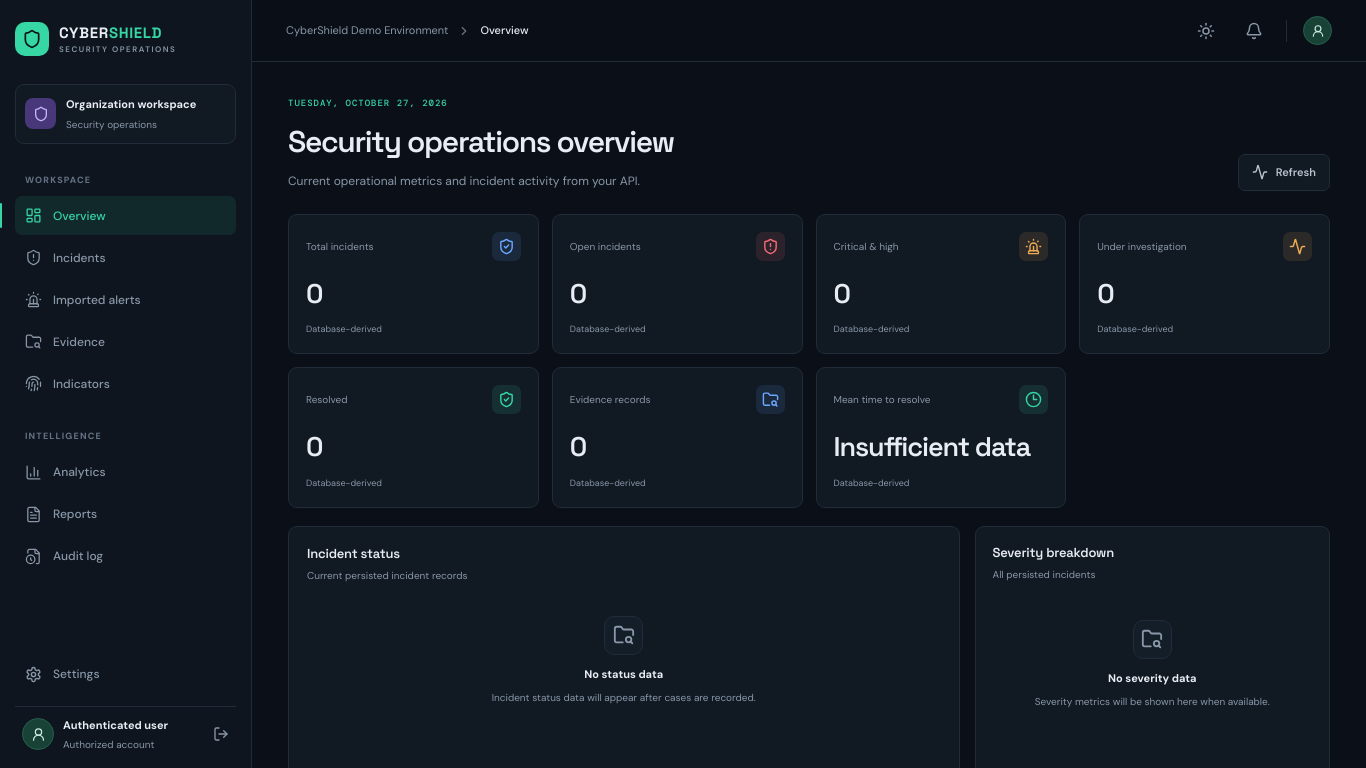
Test: CyberShield application › renders the paginated incidents response and requests the next page
Click the link "Incidents": point(65, 258) [25,249,106,266]
(page scrolled)
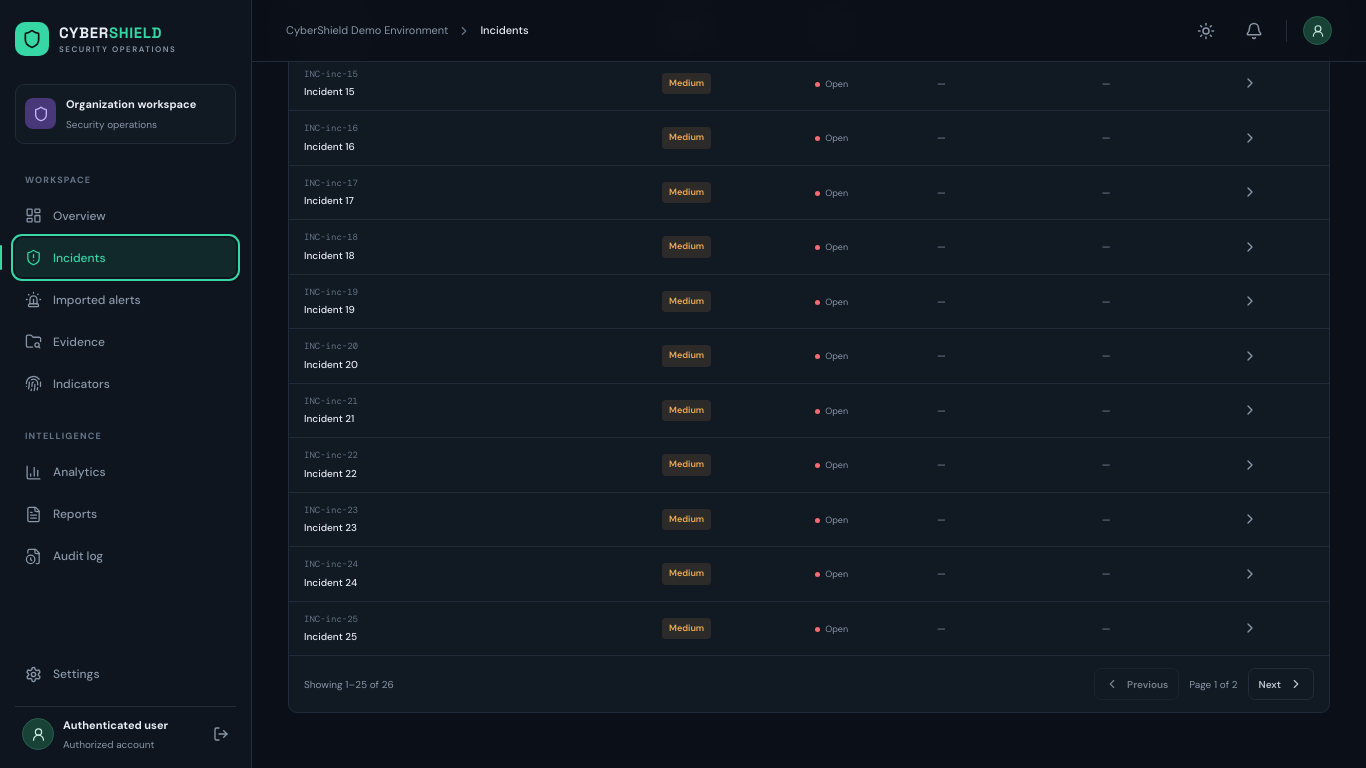
Result: the text "Page 1 of 2" is shown at [1189,677,1238,692]
Click the button "Next": point(1281, 684) [1248,668,1314,700]
(page scrolled)
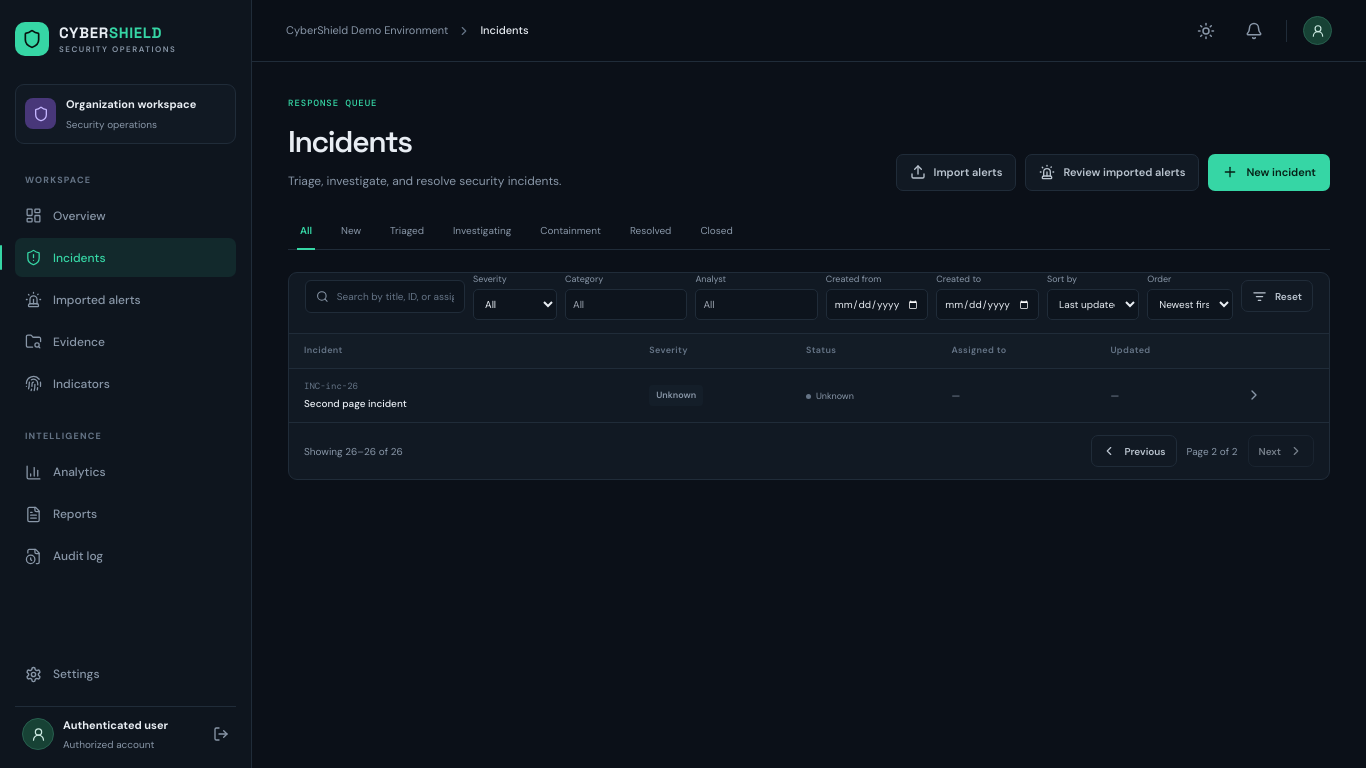
Result: the text "Second page incident" is shown at [304,397,407,410]
